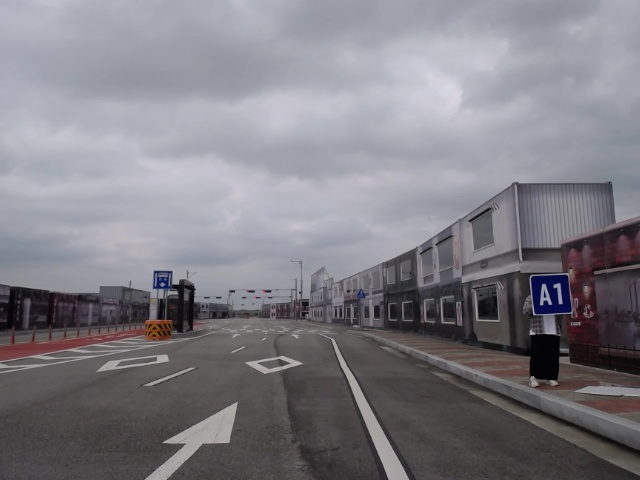delivery_a1: (530, 273, 573, 315)
